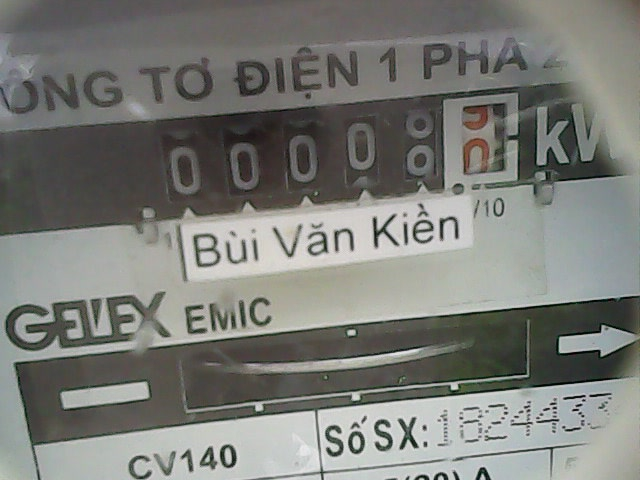phy_plate: (145, 91, 524, 219)
